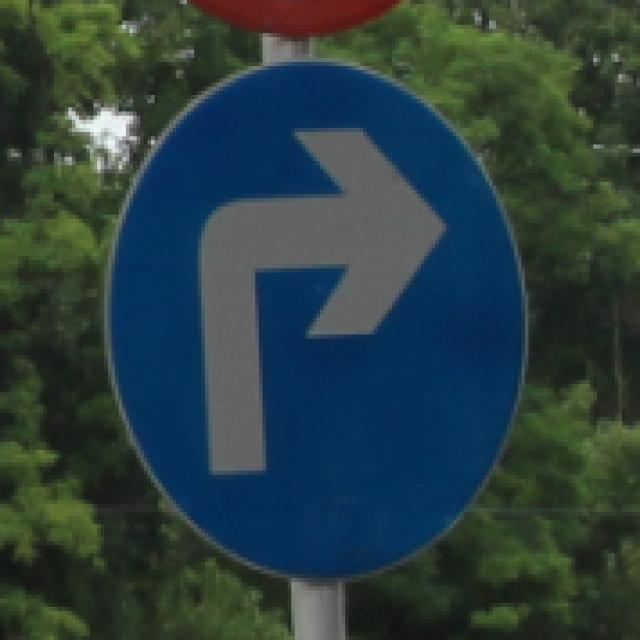Right: (104, 49, 534, 581)
